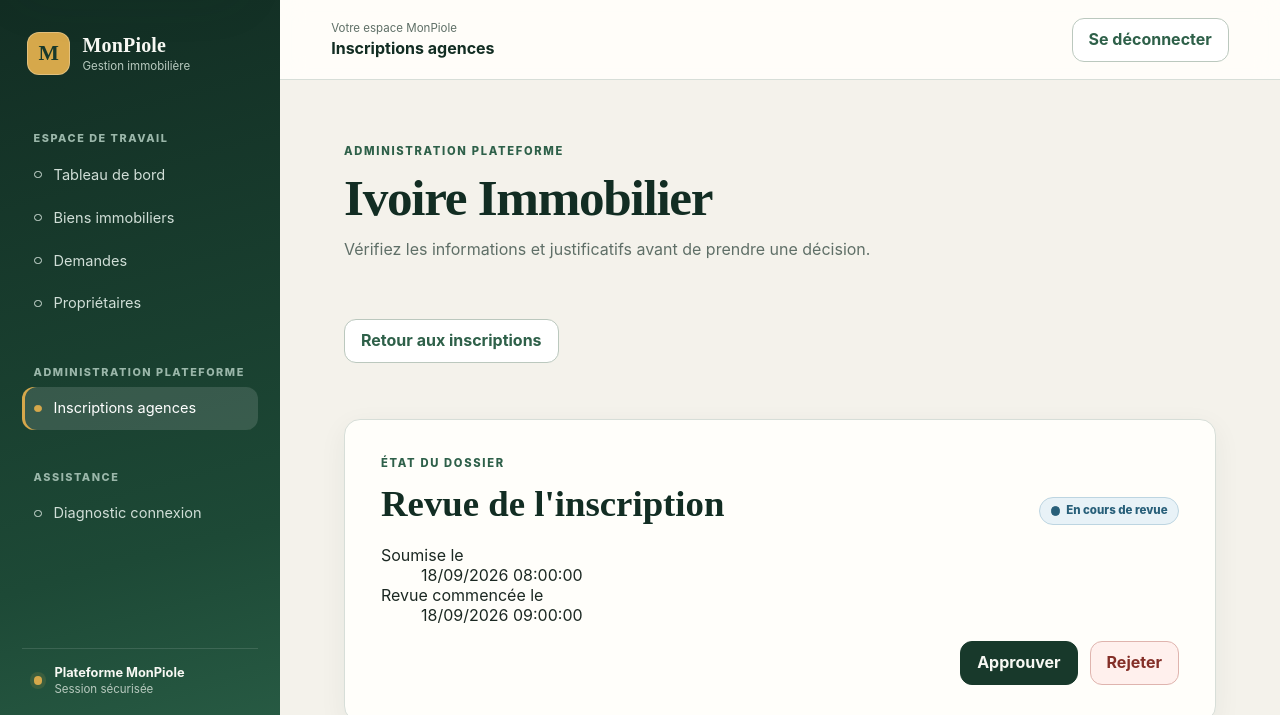
it: Revue d'une inscription agence › approuve un dossier en cours de revue après confirmation
Click the button "Approuver" at {"x": 1019, "y": 663}, box x1=960 y1=641 x2=1078 y2=685
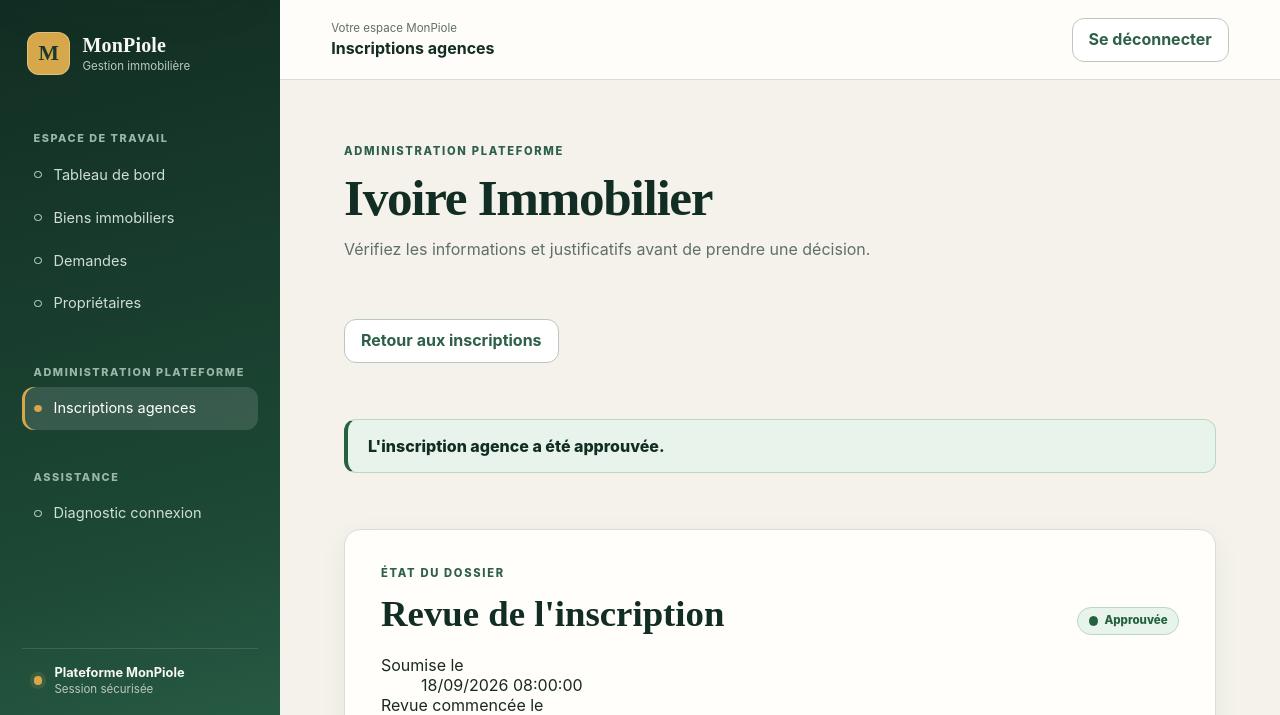
Now the text "Approuvée" is shown, box x1=1077 y1=607 x2=1179 y2=635
Now the heading "L'inscription agence a été approuvée." is shown, box x1=368 y1=436 x2=665 y2=456
Now the button "Rejeter" is gone
